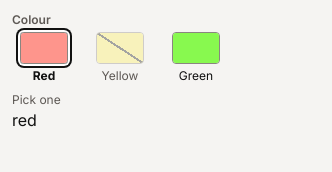
Scenario: SwatchPicker › shows the picked swatch and picks another on click
Expected: the element "Colour" is shown, [12,12,220,107]
Expected: the radio button labelled "Red" is checked, [20,32,68,83]
Click the radio button labelled "Green" at (196, 58), box [172,32,220,83]
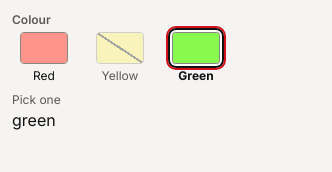
Now the radio button labelled "Green" is checked, box [172,32,220,83]
Now the text "green" is shown, box [12,110,56,130]
